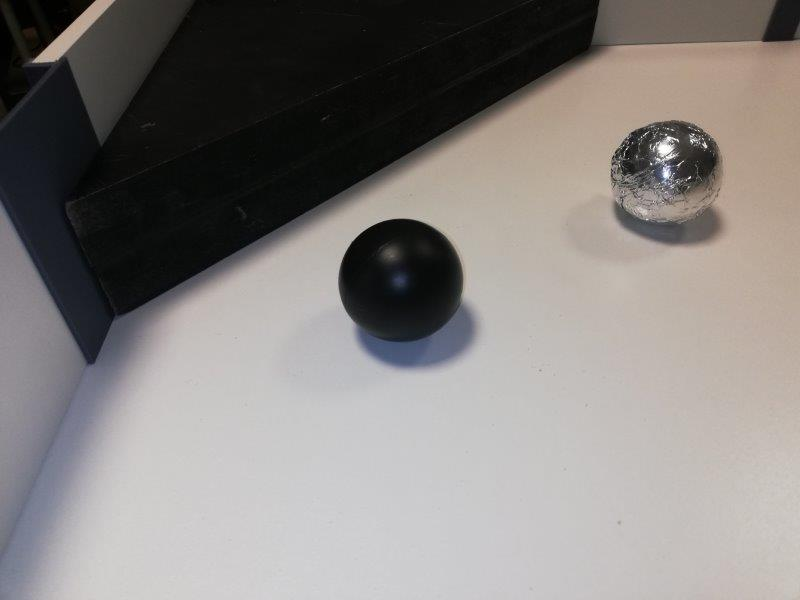bianca: (608, 120, 724, 226)
nera: (338, 220, 462, 343)
